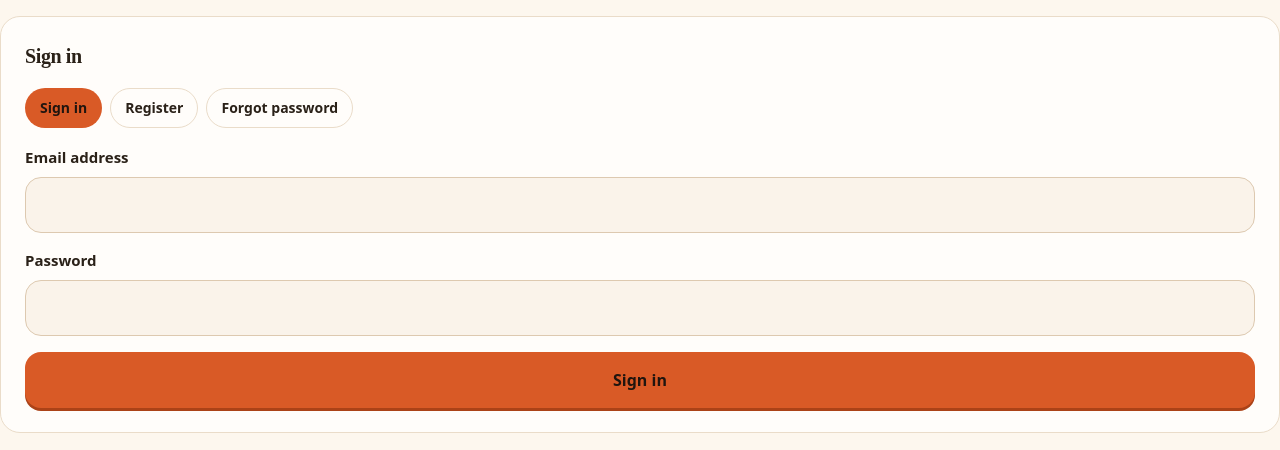
Test: AuthPanel › keeps the reset reply neutral about whether the account exists
Click the tab "Forgot password": x=280, y=108 [206,88,353,128]
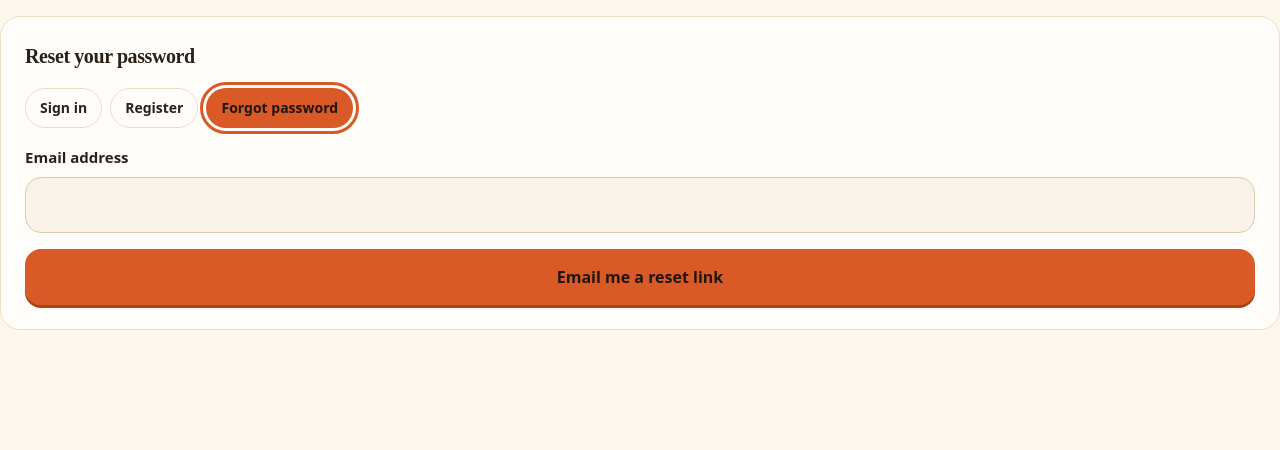
In the field labelled "Email address": x=640, y=205 [25,177,1255,233], type "someone@example.com"
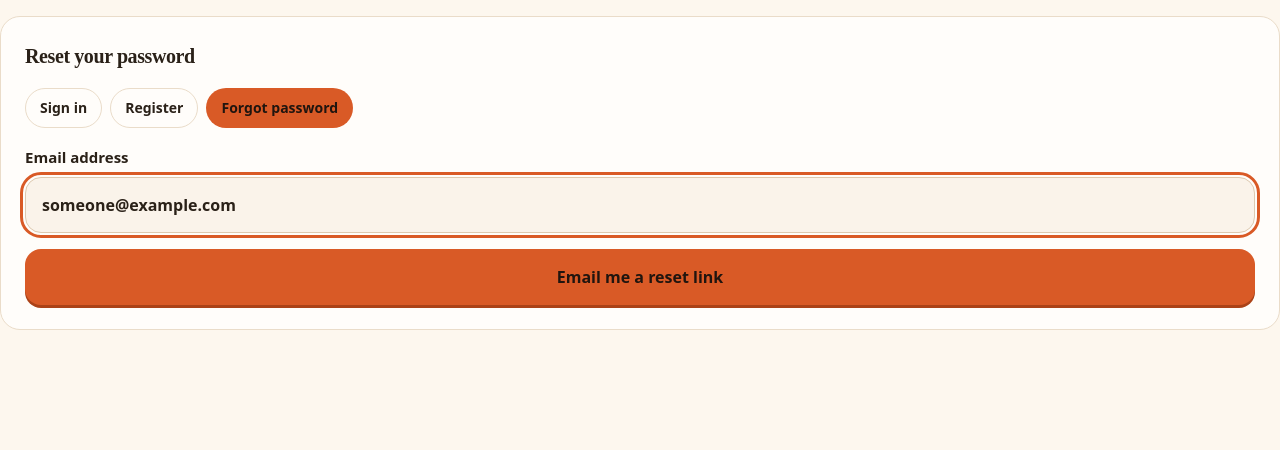
Click the button "Email me a reset link": x=640, y=277 [25,249,1255,305]
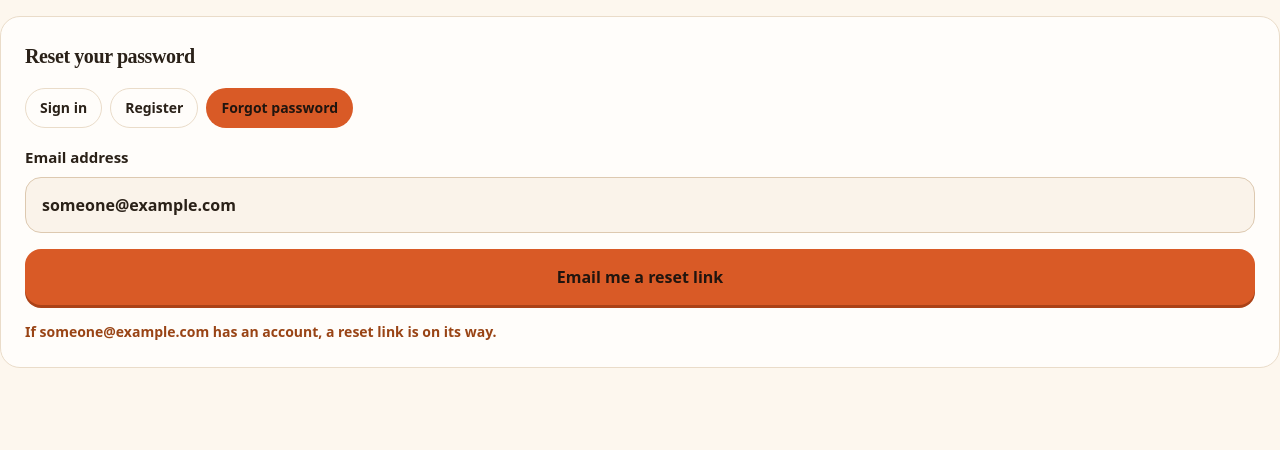
Result: the message reads "If someone@example.com has an account, a reset link is on its way." at [25,322,496,341]
